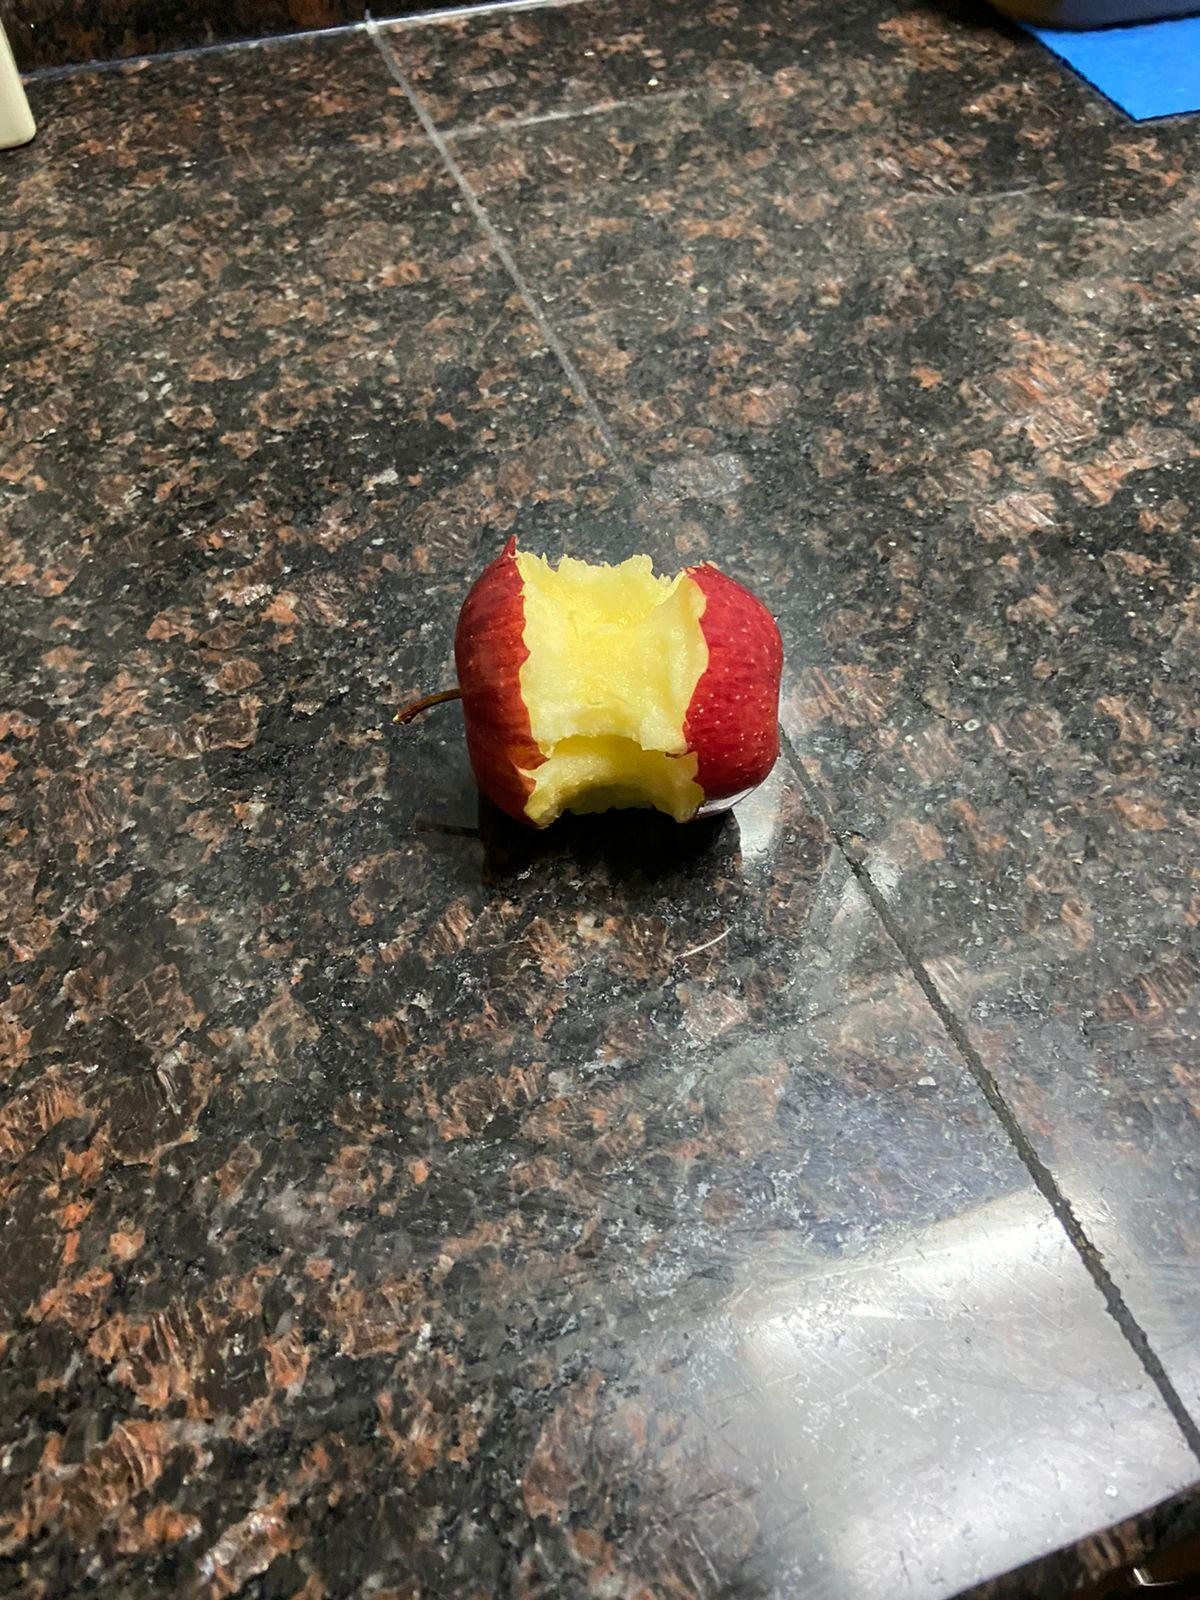Apple: (376, 537, 794, 850)
